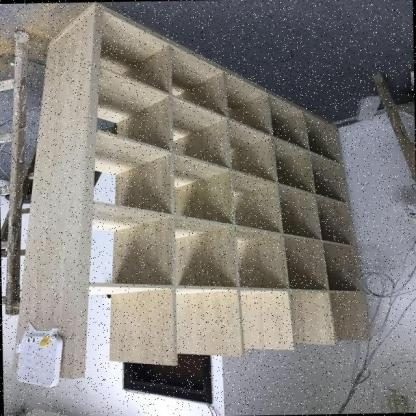Shelf: (4, 0, 374, 382)
